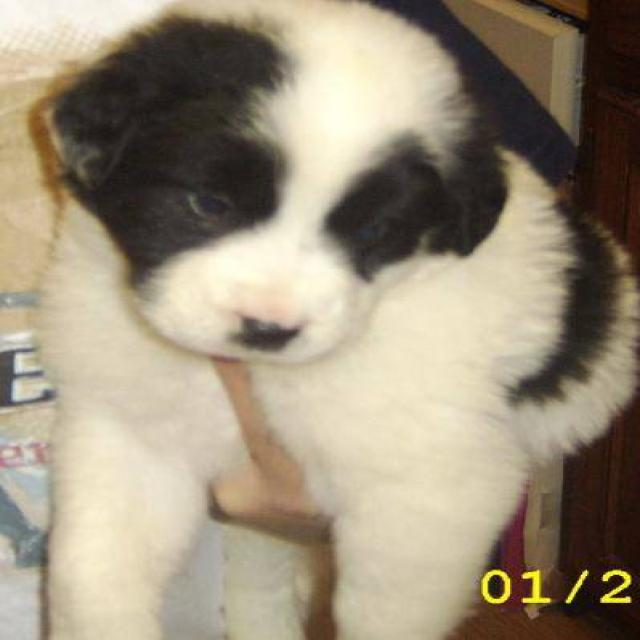dog: (26, 0, 638, 639)
